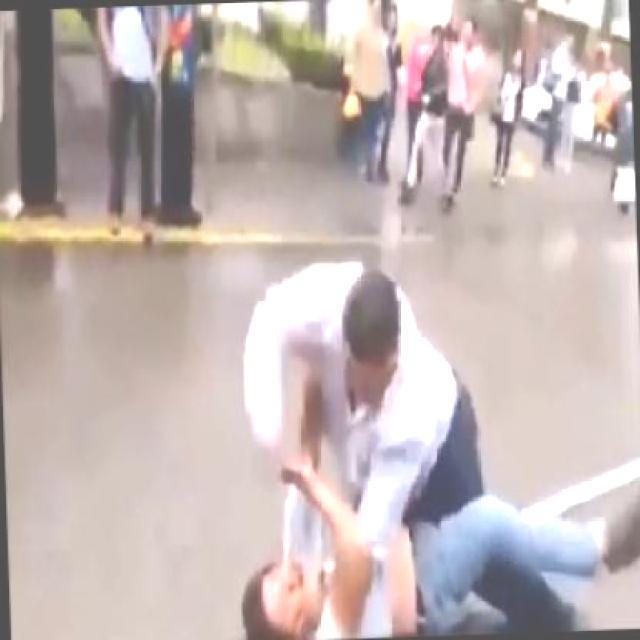fight: (230, 243, 638, 639)
